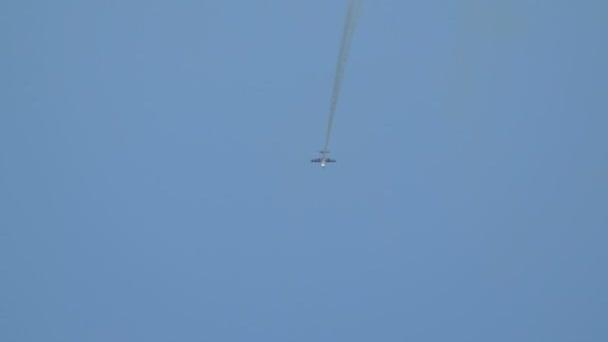Plane: (297, 146, 348, 174)
